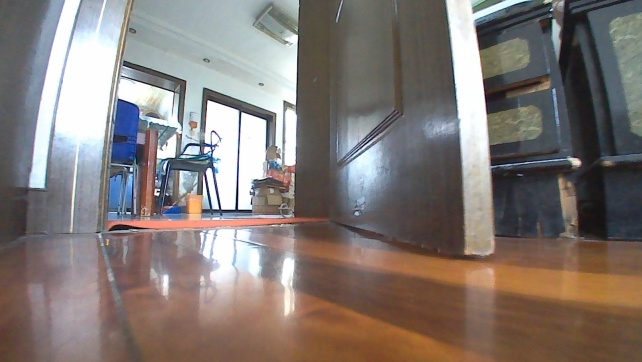blanket: (100, 210, 332, 235)
dining_table: (99, 95, 226, 221)
door_anno: (292, 0, 499, 262)
